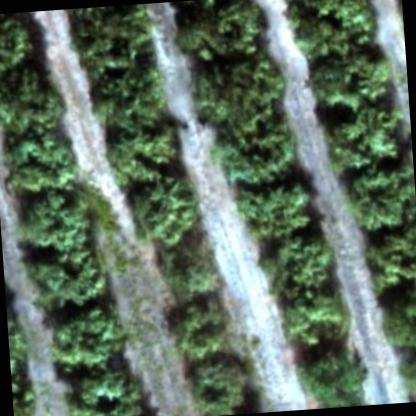Canopy-Citrus: (187, 56, 289, 135), (67, 3, 159, 75), (306, 46, 398, 115), (172, 0, 267, 65), (0, 126, 86, 195), (46, 305, 130, 372), (280, 0, 384, 54), (102, 124, 186, 190), (326, 110, 412, 174), (126, 184, 206, 251), (18, 187, 100, 252), (184, 347, 259, 415), (260, 233, 338, 298), (89, 69, 171, 130), (30, 248, 110, 310), (154, 228, 224, 297), (297, 344, 372, 408), (212, 129, 298, 184), (162, 296, 235, 360), (236, 181, 315, 239), (0, 68, 71, 132), (347, 170, 415, 233), (280, 291, 351, 348), (67, 369, 152, 415), (363, 226, 415, 294), (0, 12, 39, 90), (375, 290, 415, 356), (397, 347, 415, 401)
